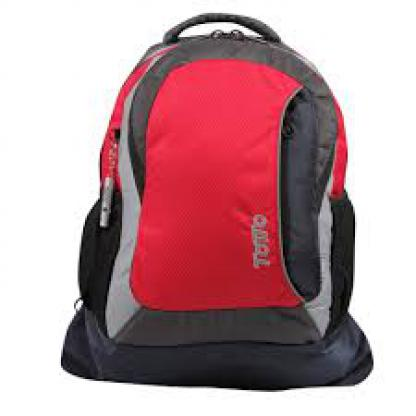morral: (57, 2, 390, 394)
